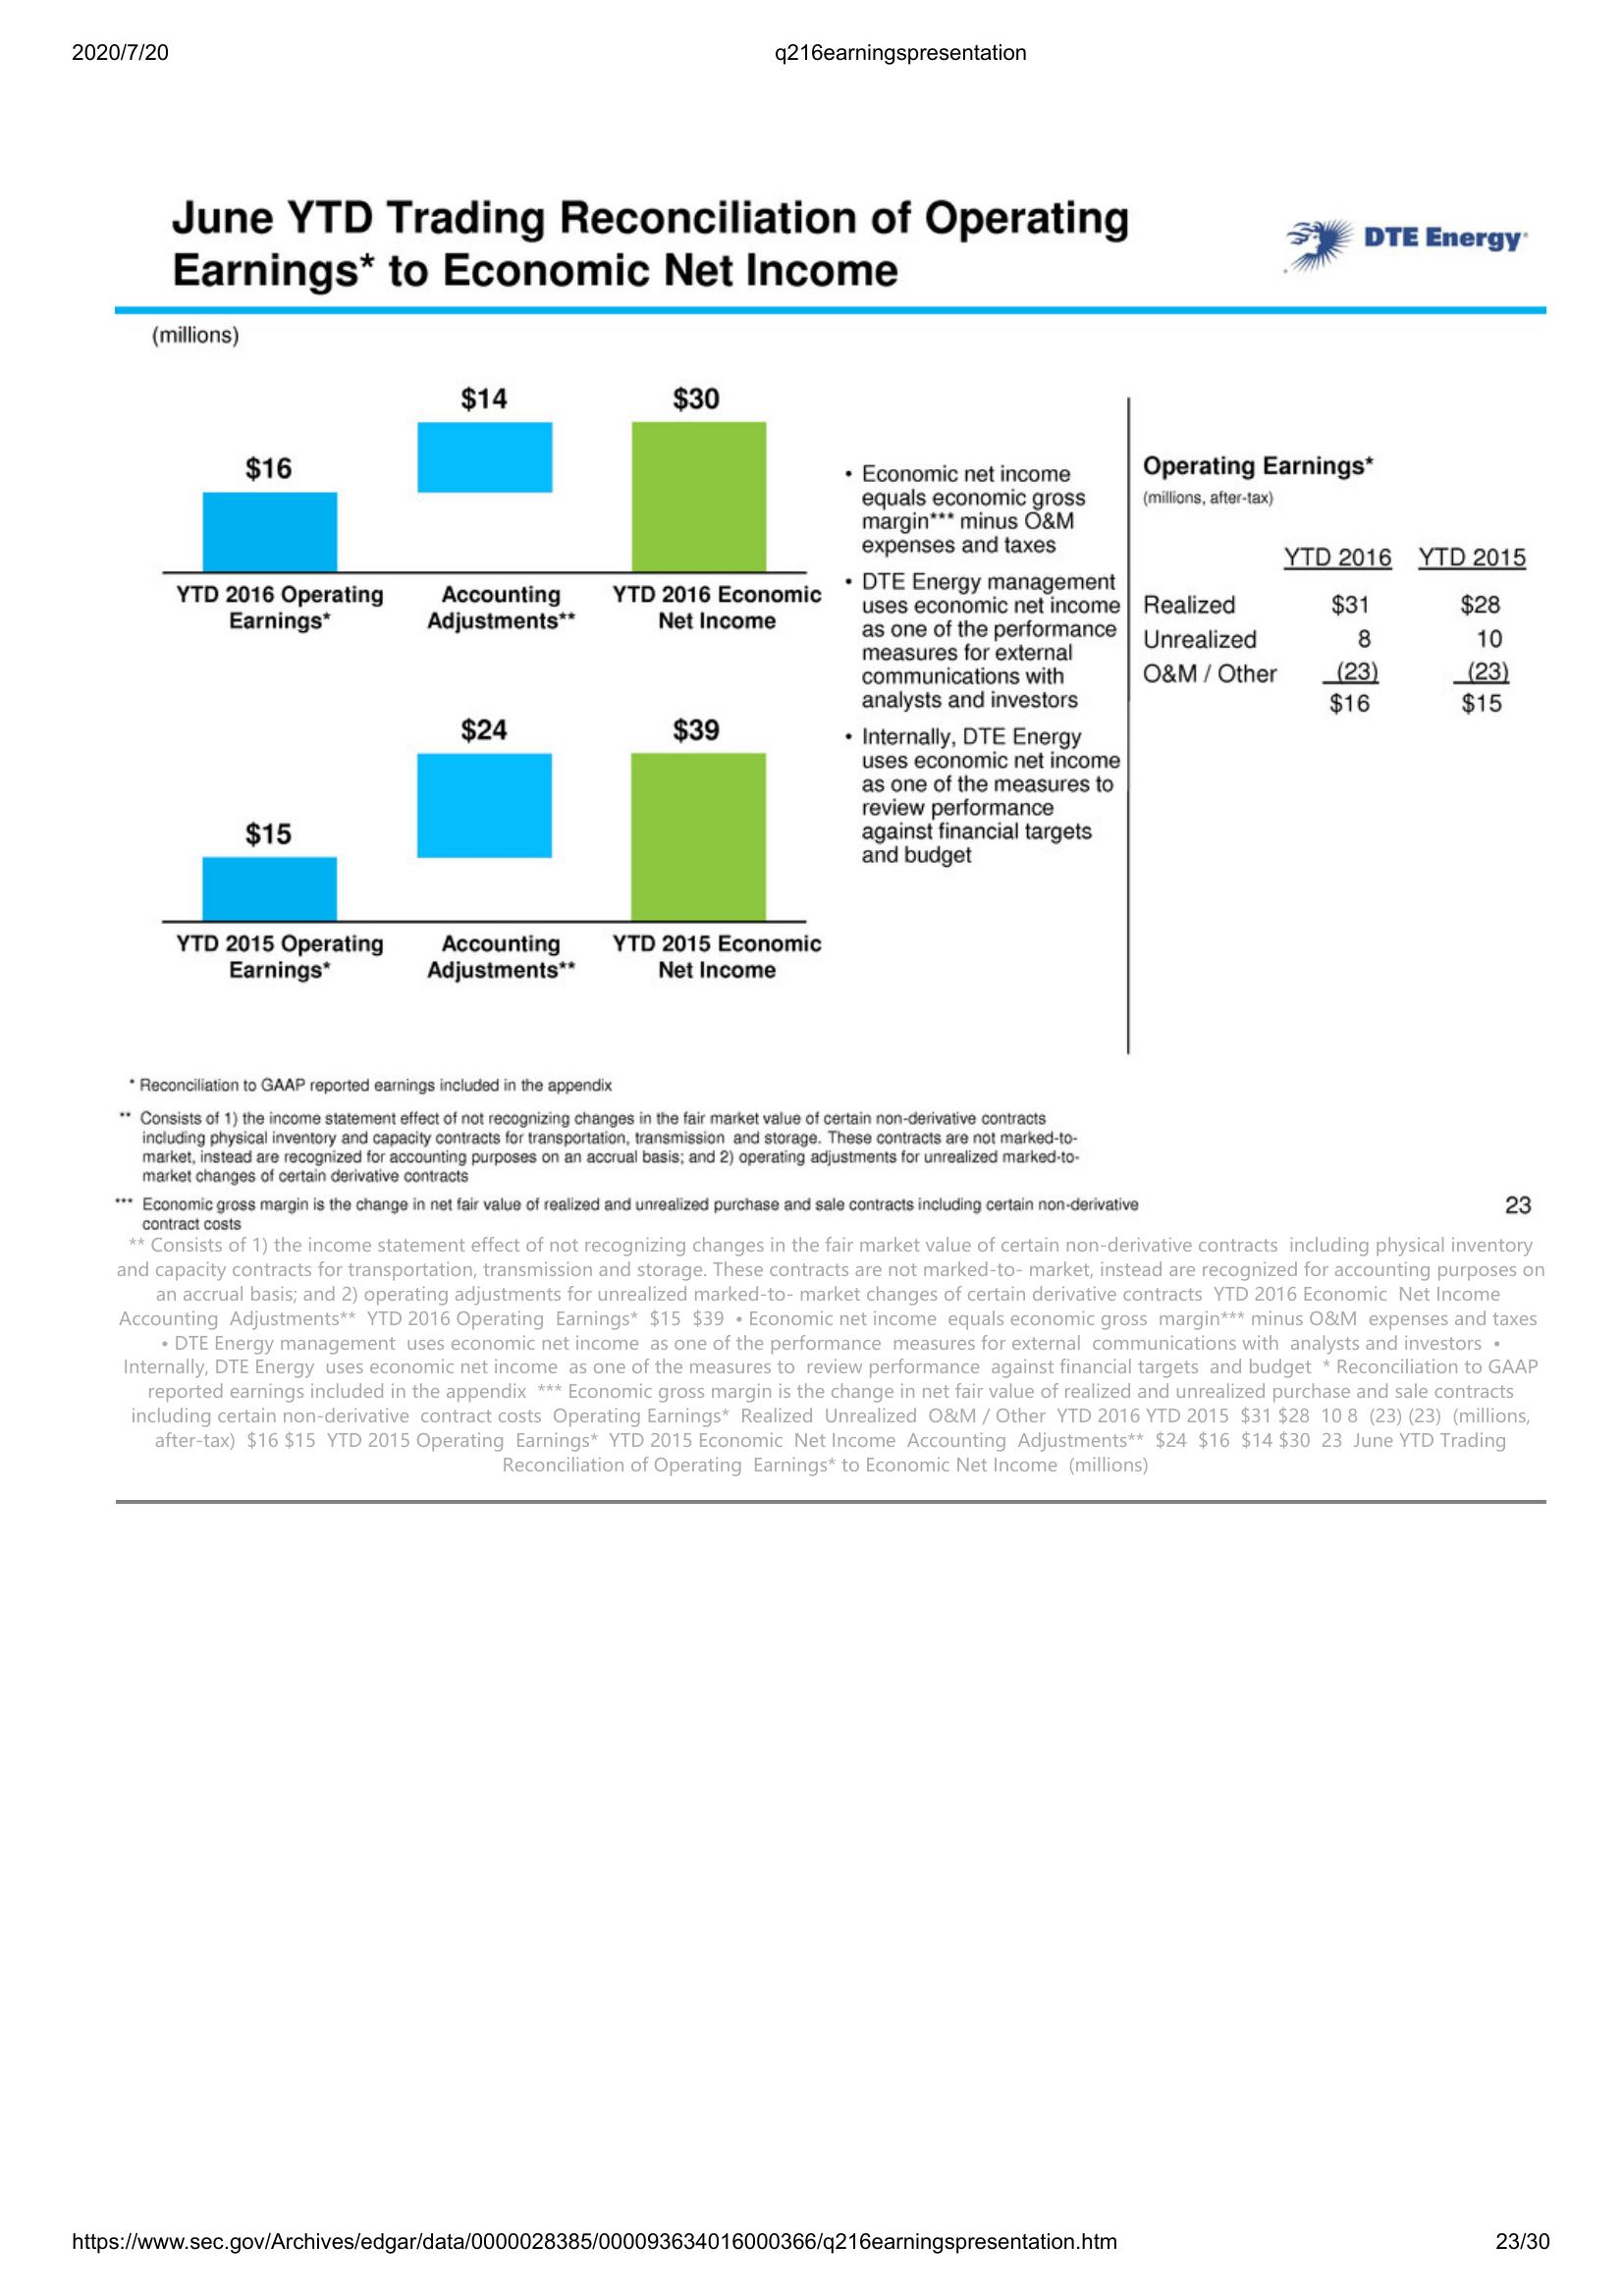table: (1138, 528, 1544, 723)
